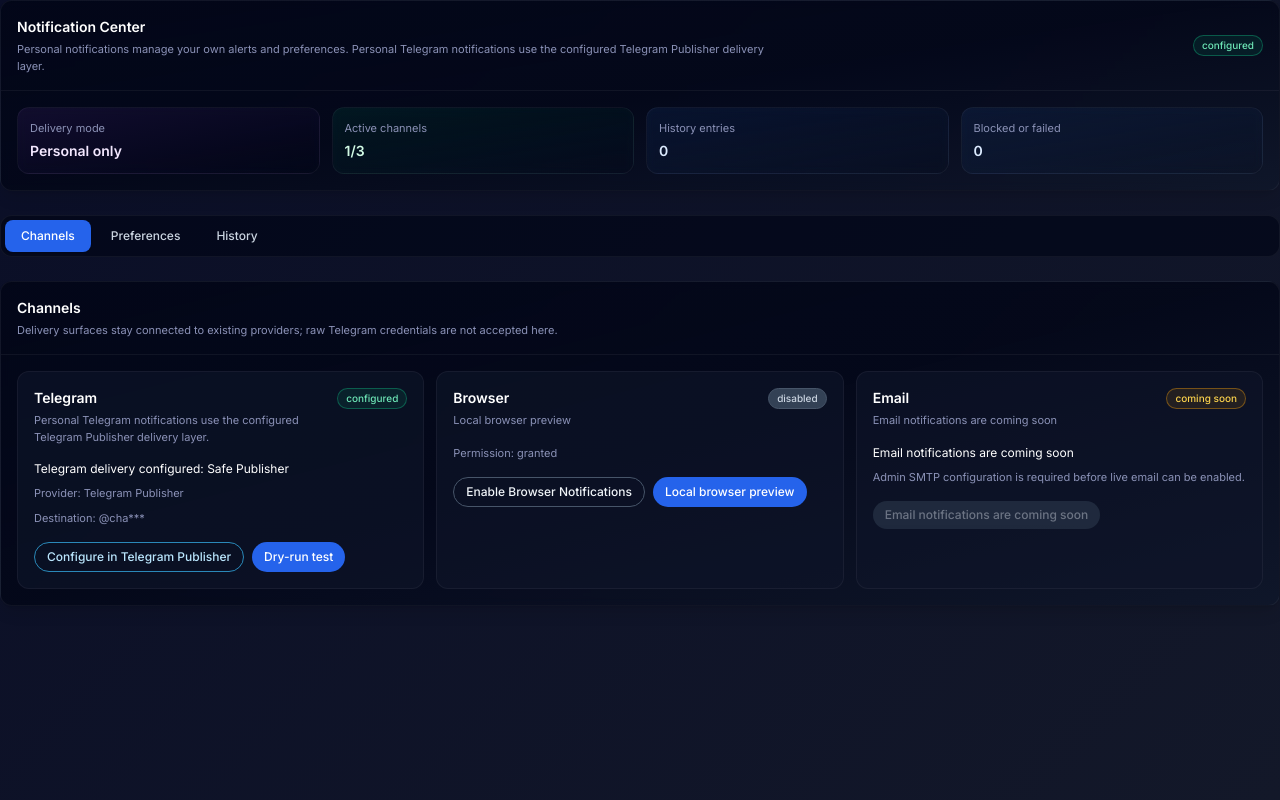
it: NotificationsSettings unified center › browser channel persistence › persists browser_enabled=true when permission is granted
The image size is (1280, 800).
Check: the heading "Browser" is shown, box [453, 389, 509, 406]
Click the button "Enable Browser Notifications" at x=549, y=492, box [453, 477, 645, 507]
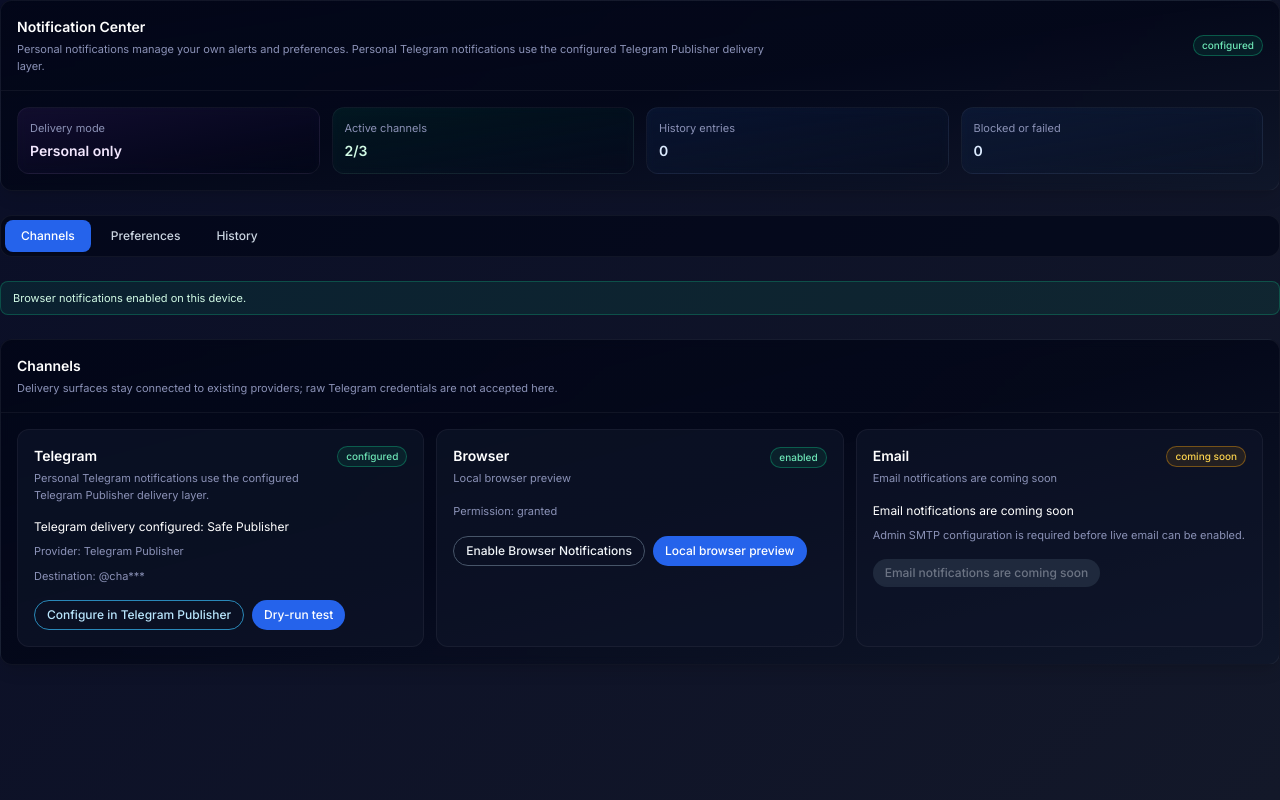
Check: the text "Browser notifications enabled on this device." is shown, box [0, 280, 1279, 315]
Check: the text "enabled" is shown, box [770, 446, 827, 468]
